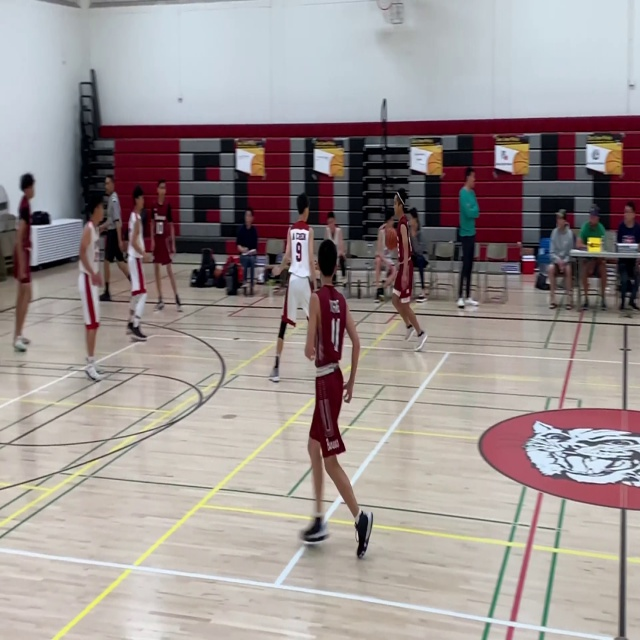Basketball: (384, 228, 398, 250)
